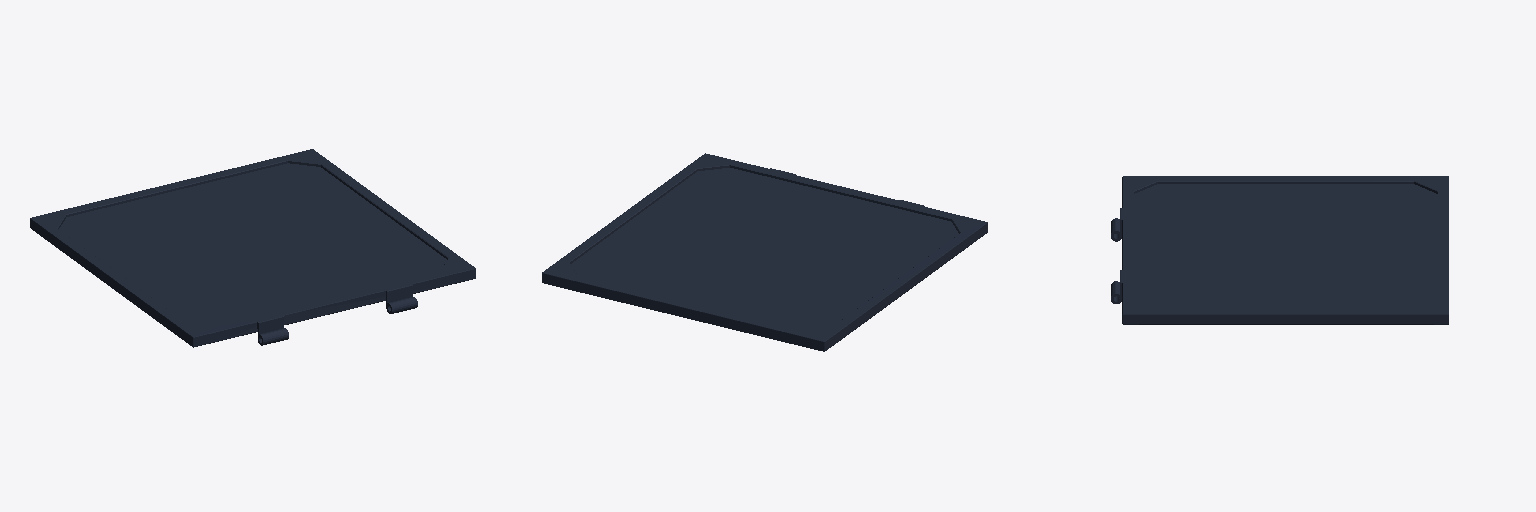
Rendered from closed-box_couvercle.obj.
The picture shows the model from 3 angles: view 1: azimuth 30°, elevation 25°; view 2: azimuth 150°, elevation 25°; view 3: azimuth 270°, elevation 25°; orthographic projection.
Parts seen in each view (by area): view 1: Couvercle; view 2: Couvercle; view 3: Couvercle.
Part boxes in pixels (x1,y1,x2,y2): Couvercle: (30,149,475,347); Couvercle: (542,153,987,351); Couvercle: (1111,176,1448,324).
Bounding box in the file's own units: 550 × 40.1 × 570.